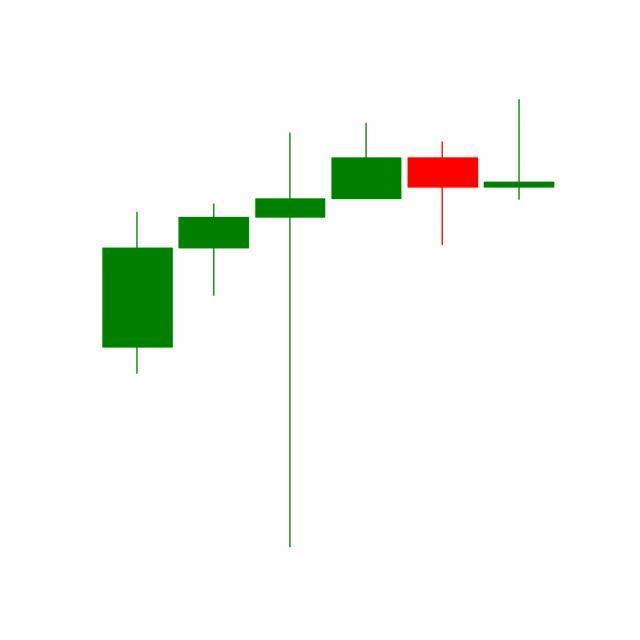Hammer: (404, 141, 482, 248)
